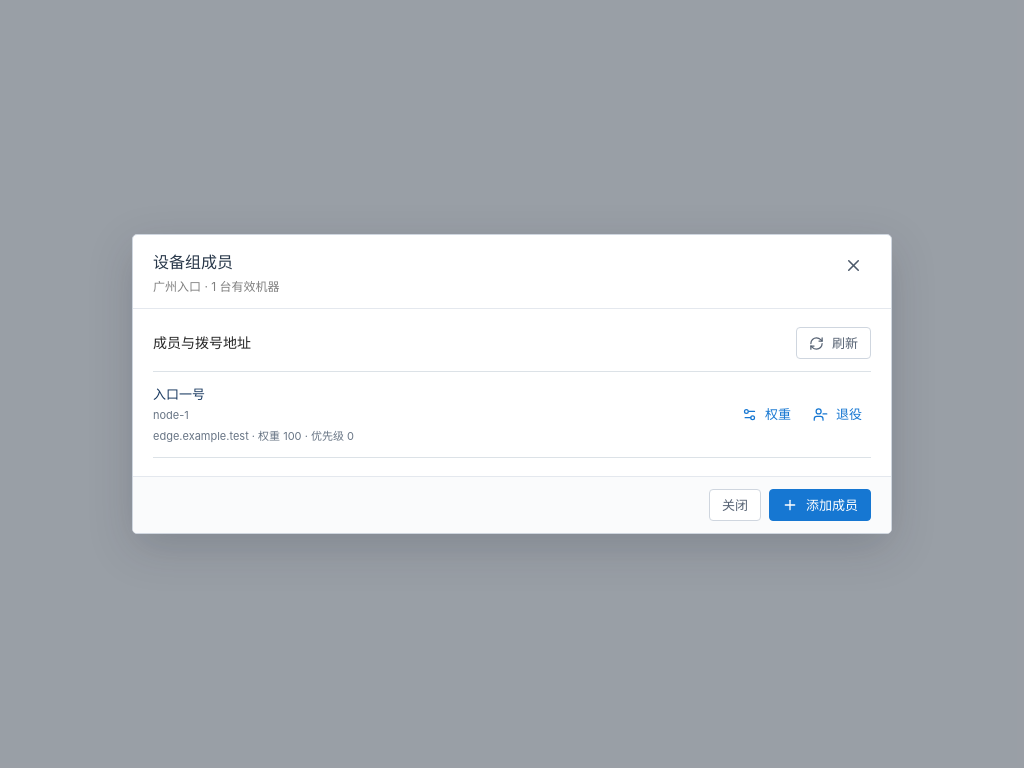
Scenario: GroupMembersDialog › loads members and requires explicit confirmation before retirement
Click the button with aria-label "退役 入口一号": (838, 414) [804,400,871,430]
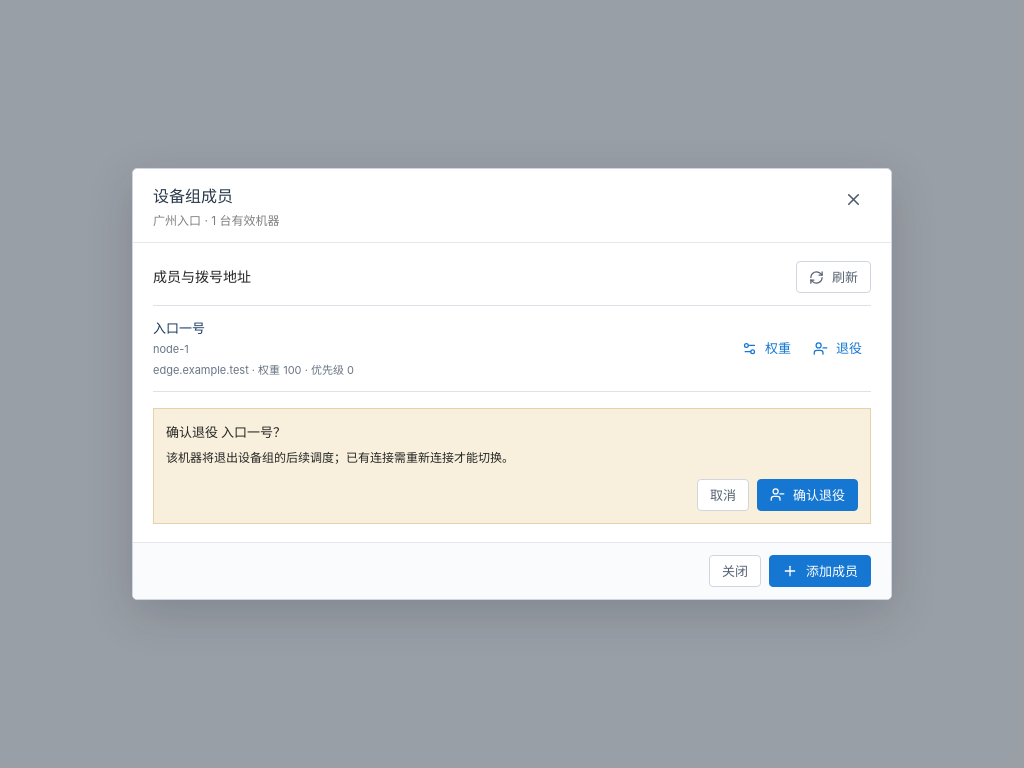
Click the button "确认退役": (808, 495) [757,479,858,511]
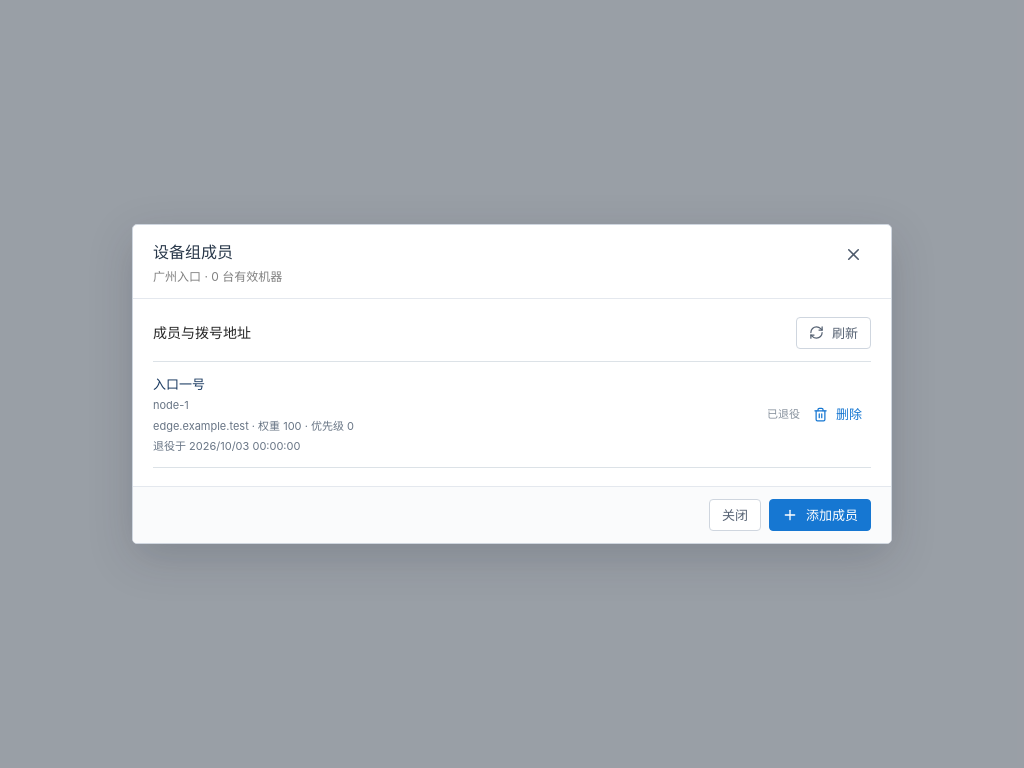
Now the text "已退役" is shown, box [767,406,800,423]
